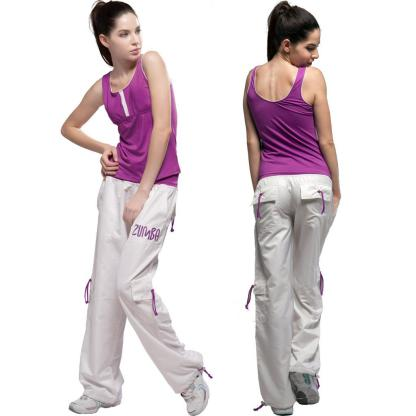face: (107, 20, 143, 61), (293, 30, 322, 70)
